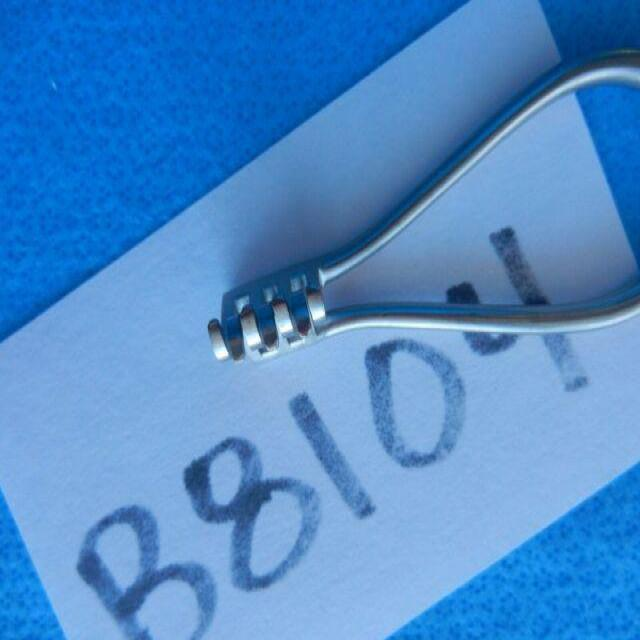Weitlaner: (201, 43, 640, 373)
